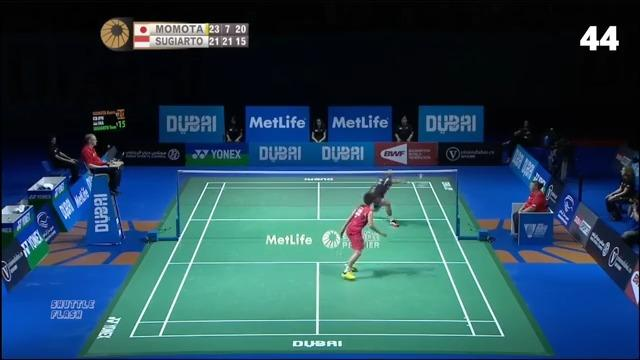Shuttlecock: (416, 171, 426, 181)
